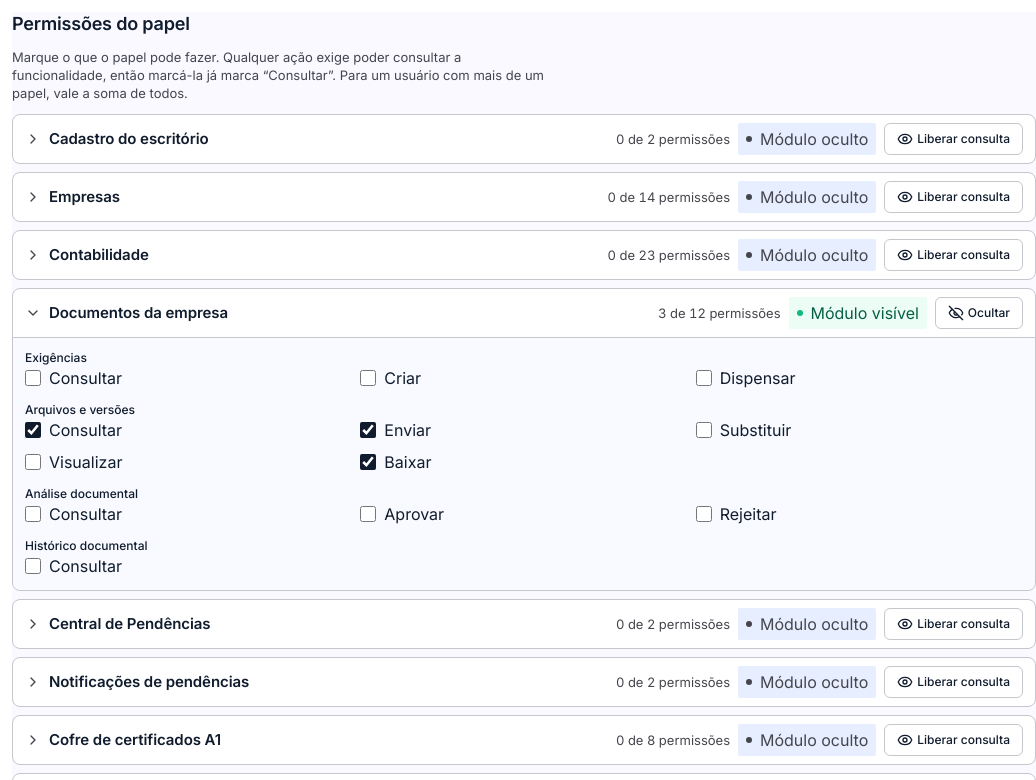
Test: dependência de Consultar (§3.3) › retirar Consultar revoga as ações dependentes e avisa quantas saíram
Click the checkbox labelled "Consultar" in the row of "Enviar": (33, 430) [25,422,41,438]
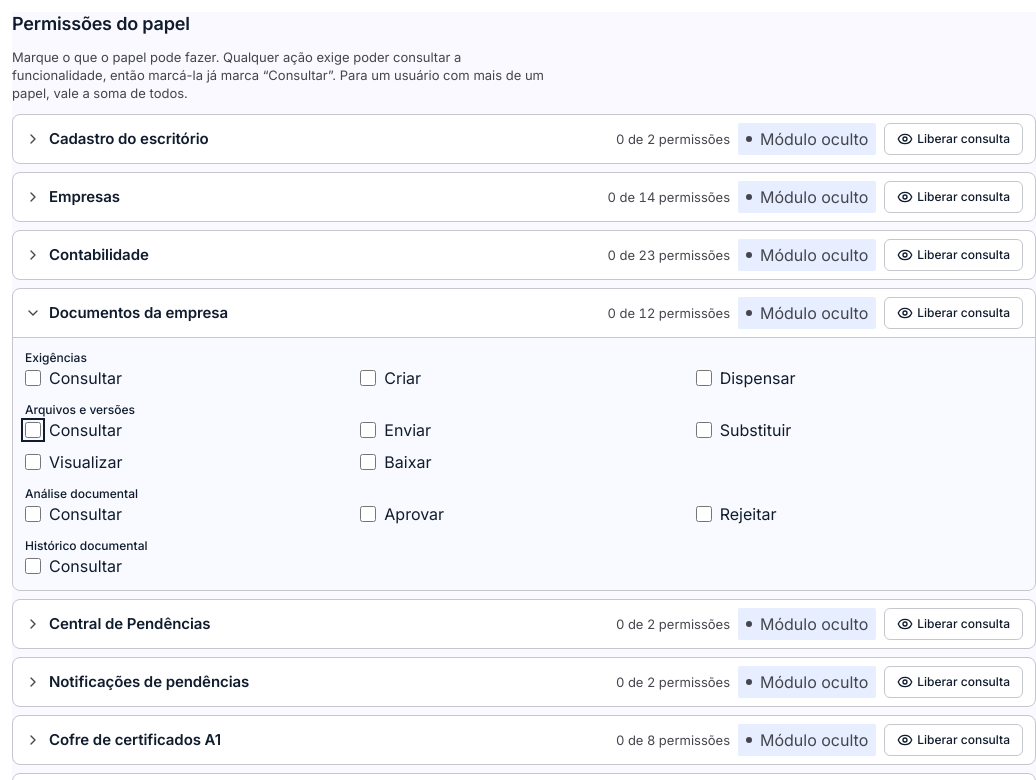
Check: the checkbox labelled "Consultar" in the row of "Enviar" is not checked, box [25,422,41,438]
Check: the checkbox labelled "Enviar" is not checked, box [360,422,376,438]
Check: the checkbox labelled "Baixar" is not checked, box [360,454,376,470]
